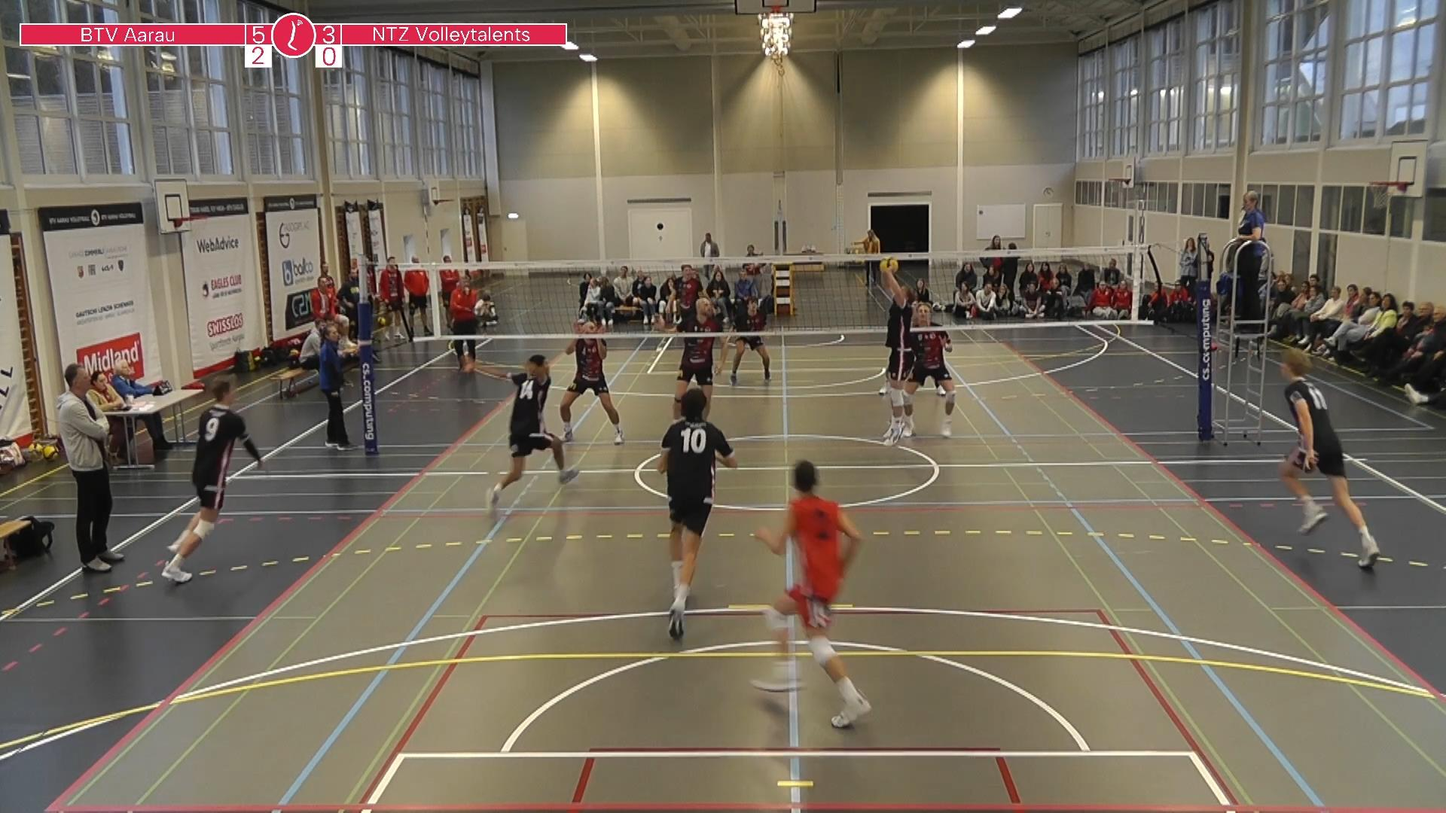Player: (752, 461, 870, 728), (1280, 349, 1378, 568), (162, 378, 263, 583), (657, 388, 737, 639), (478, 355, 578, 520), (654, 299, 721, 420), (560, 321, 624, 444), (905, 302, 956, 437), (728, 298, 770, 385), (676, 266, 703, 319)
Set: (877, 271, 916, 447)
ball: (879, 255, 904, 275)
